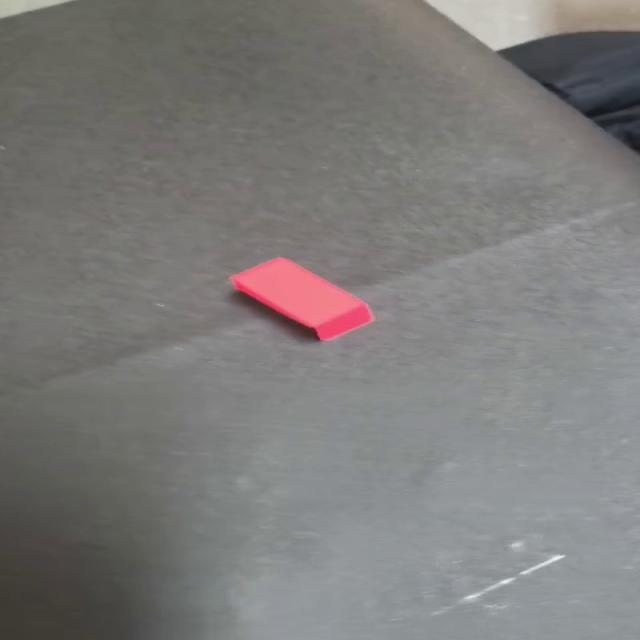red block: (228, 256, 375, 342)
